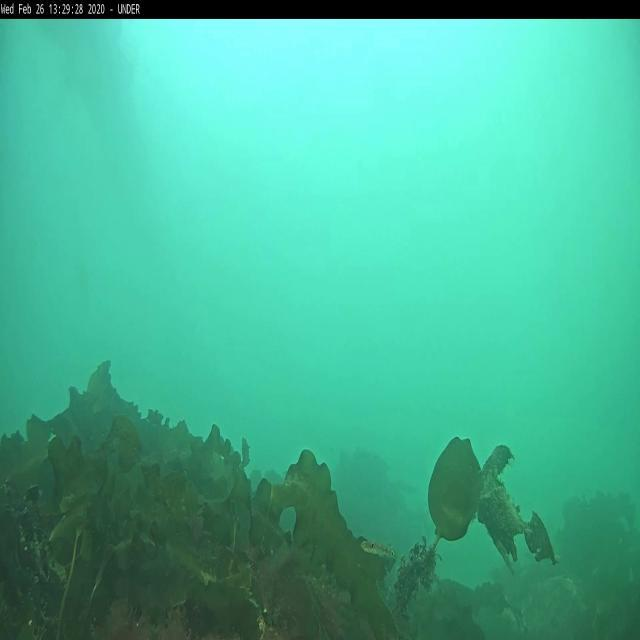fish: (361, 543, 398, 559)
